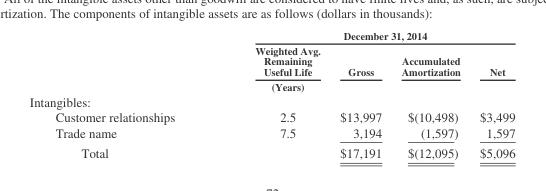table: (28, 28, 514, 160)
table column: (28, 28, 214, 160), (214, 28, 329, 160), (390, 28, 469, 160), (329, 28, 390, 160), (469, 28, 514, 160)
table column header: (28, 28, 514, 93)
table projected row header: (28, 93, 514, 109)
table row: (28, 42, 514, 93), (28, 124, 514, 142), (28, 142, 514, 160), (28, 93, 514, 109), (28, 109, 514, 124), (28, 28, 514, 42)
table spanning cell: (214, 28, 514, 42)
